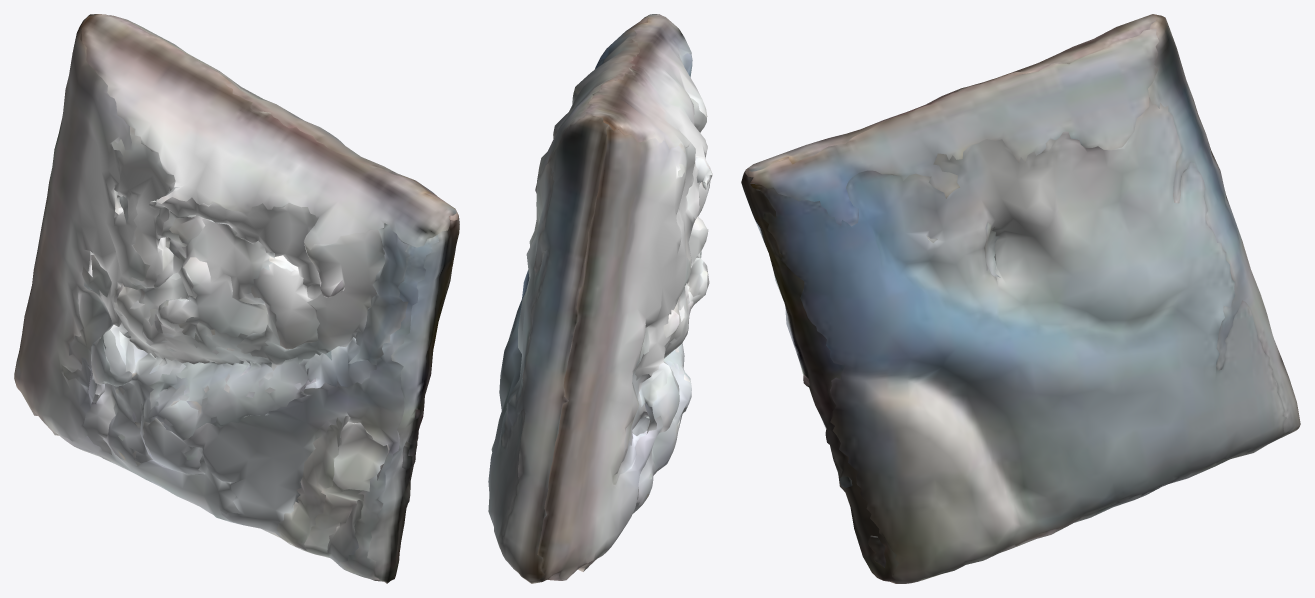
The model's file is 24_headboard.glb.
3 views of the same model, side by side, from view 1: azimuth 30°, elevation 25°; view 2: azimuth 150°, elevation 25°; view 3: azimuth 270°, elevation 25° (orthographic). The views are drawn at different scales.
Parts seen in each view (by area): view 1: 24_headboard; view 2: 24_headboard; view 3: 24_headboard.
Part boxes in pixels (x1,y1,x2,y2): 24_headboard: (14, 14, 459, 583); 24_headboard: (488, 14, 712, 583); 24_headboard: (741, 14, 1300, 583).
Bounding box in the file's own units: 0.5795 × 1.29 × 1.34.
1 material, 1 textured.
